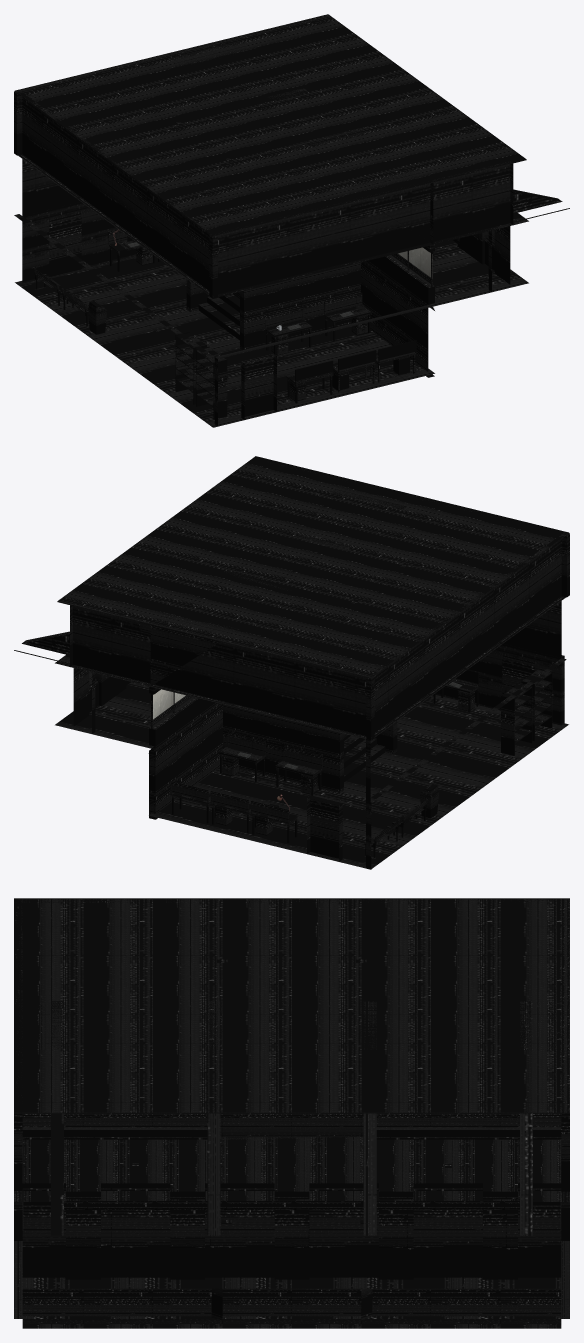
File: room2offices4_opt.obj
3 views of the same model, one above another, from view 1: azimuth 30°, elevation 25°; view 2: azimuth 150°, elevation 25°; view 3: azimuth 270°, elevation 25° (orthographic). The views are drawn at different scales.
Size of the model in its own units: 2164 by 1124 by 2048.
